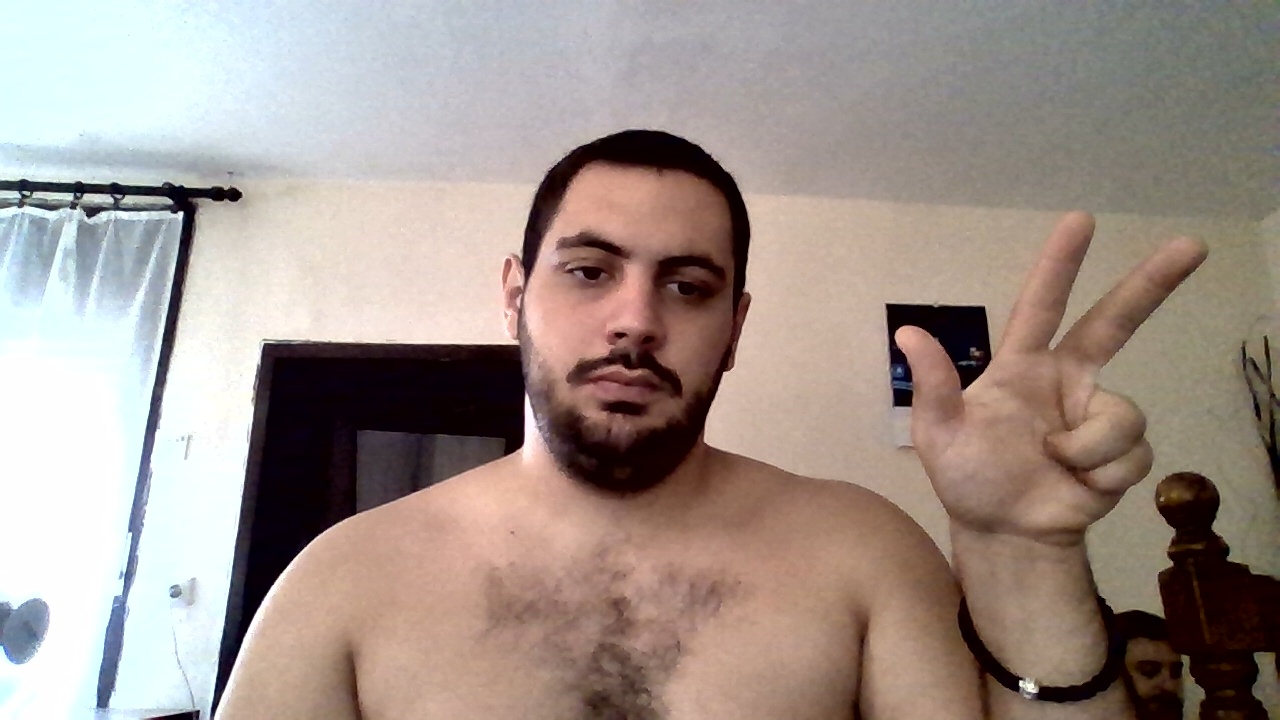serbia: (897, 219, 1206, 528)
